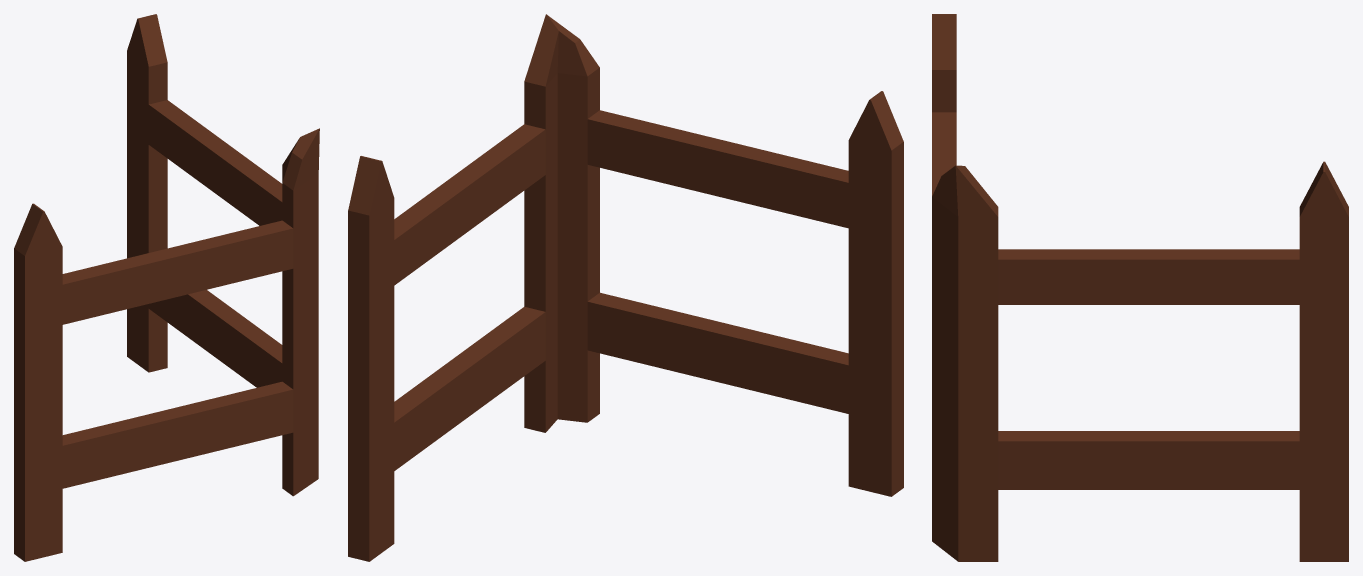
File: Plot_2.fbx
3 renders of one model, left to right at view 1: azimuth 30°, elevation 25°; view 2: azimuth 150°, elevation 25°; view 3: azimuth 270°, elevation 25°, orthographic. The views are drawn at different scales.
Parts seen in each view (by area): view 1: Cube.001; view 2: Cube.001; view 3: Cube.001.
Part boxes in pixels (<box>): Cube.001: <box>14,14,319,561</box>; Cube.001: <box>348,14,903,561</box>; Cube.001: <box>932,14,1348,561</box>.
Bounding box in the file's own units: 233 × 244 × 222.
